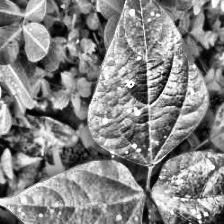Bean Rust: (92, 0, 202, 167), (0, 159, 140, 223), (150, 152, 224, 224)
